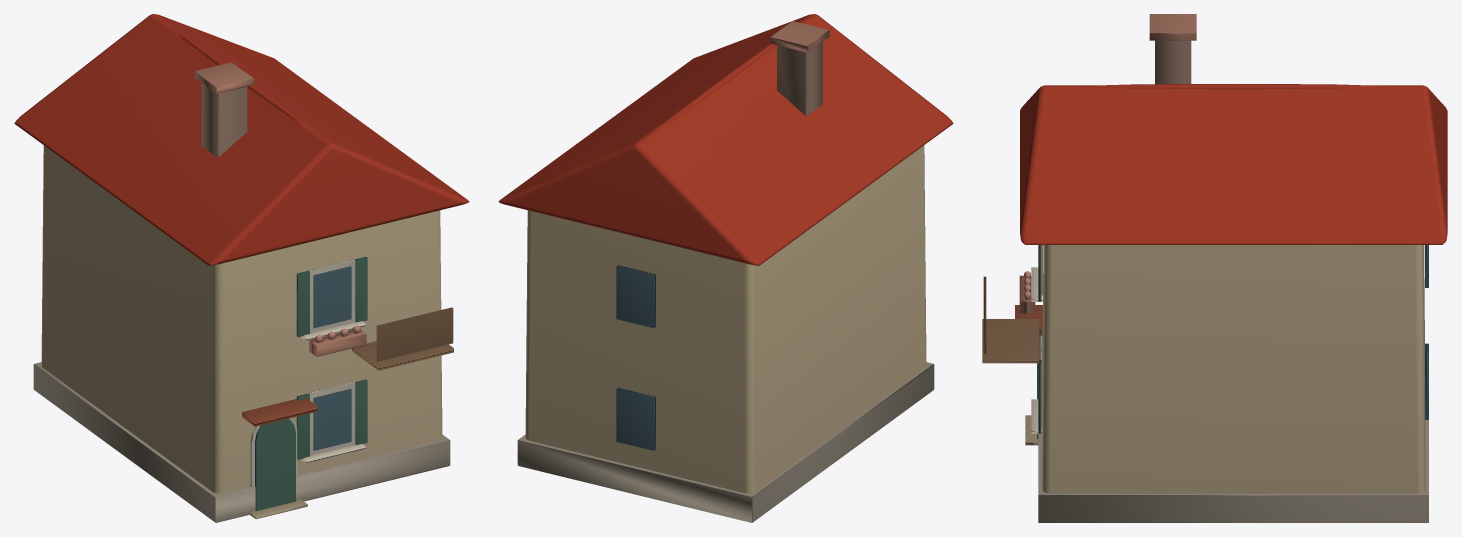
Rendered from house_06.glb.
The picture shows the model from 3 angles, left to right: view 1: azimuth 30°, elevation 25°; view 2: azimuth 150°, elevation 25°; view 3: azimuth 270°, elevation 25°; orthographic projection. The views are drawn at different scales.
Visible parts, largest first — view 1: house_06; view 2: house_06; view 3: house_06.
Boxes of the visible parts, x1,y1,x2,y2 form: house_06: (14, 14, 469, 522); house_06: (498, 14, 953, 522); house_06: (982, 14, 1447, 522).
Bounding box in the file's own units: 6.25 × 8.84 × 8.95.
